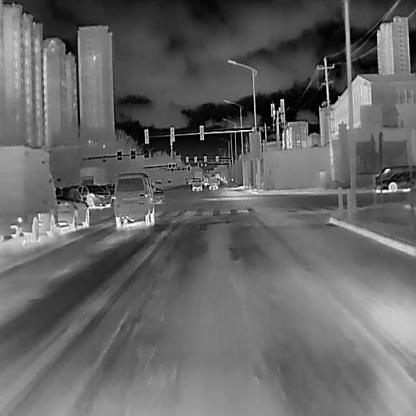car: (0, 144, 59, 242), (114, 172, 155, 225), (54, 187, 88, 231), (374, 165, 413, 188), (75, 184, 111, 208), (377, 171, 415, 190), (207, 177, 219, 190), (191, 177, 202, 191)
